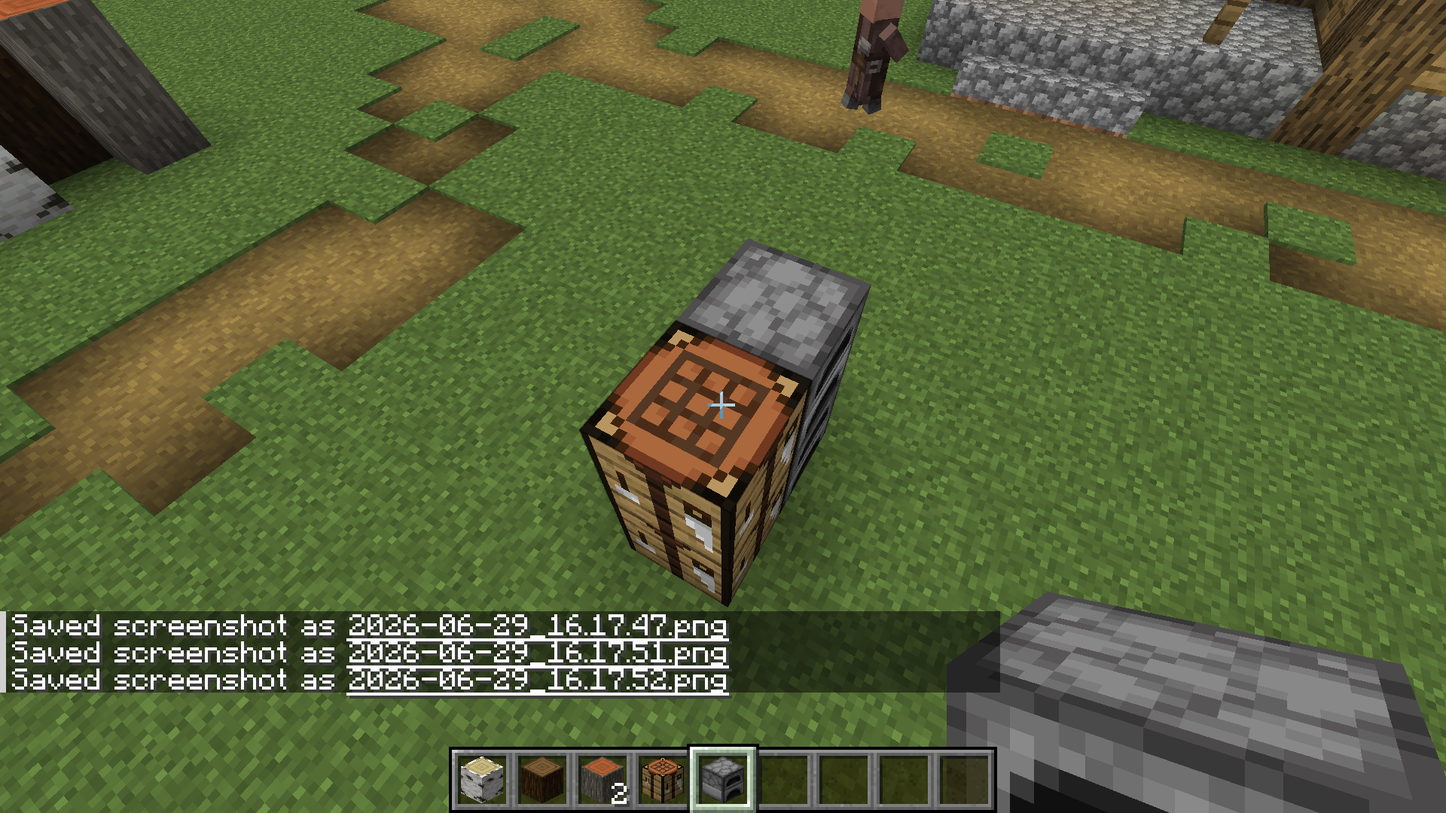stove: (678, 243, 869, 378), (803, 300, 865, 438)
verstak: (589, 329, 805, 499), (584, 430, 728, 605)
villager: (840, 0, 911, 109)
